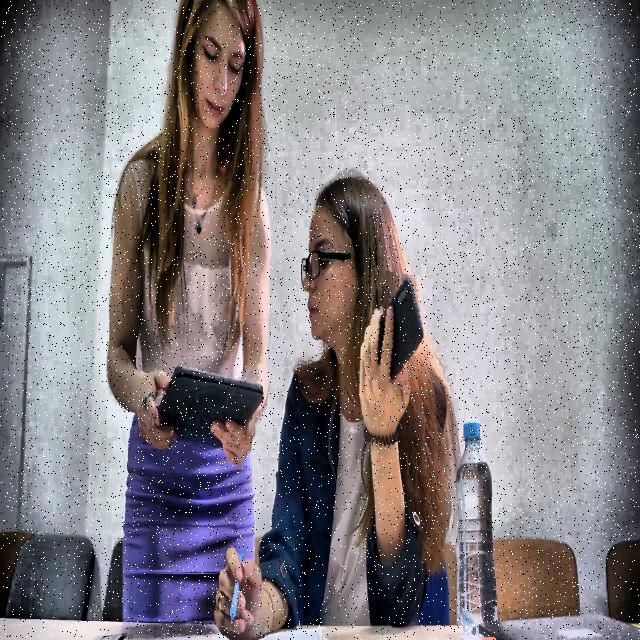Phone: (372, 272, 429, 386)
